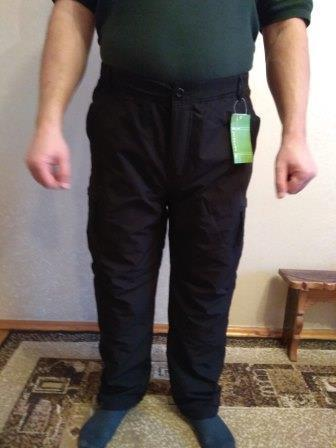pants: (78, 62, 257, 421)
